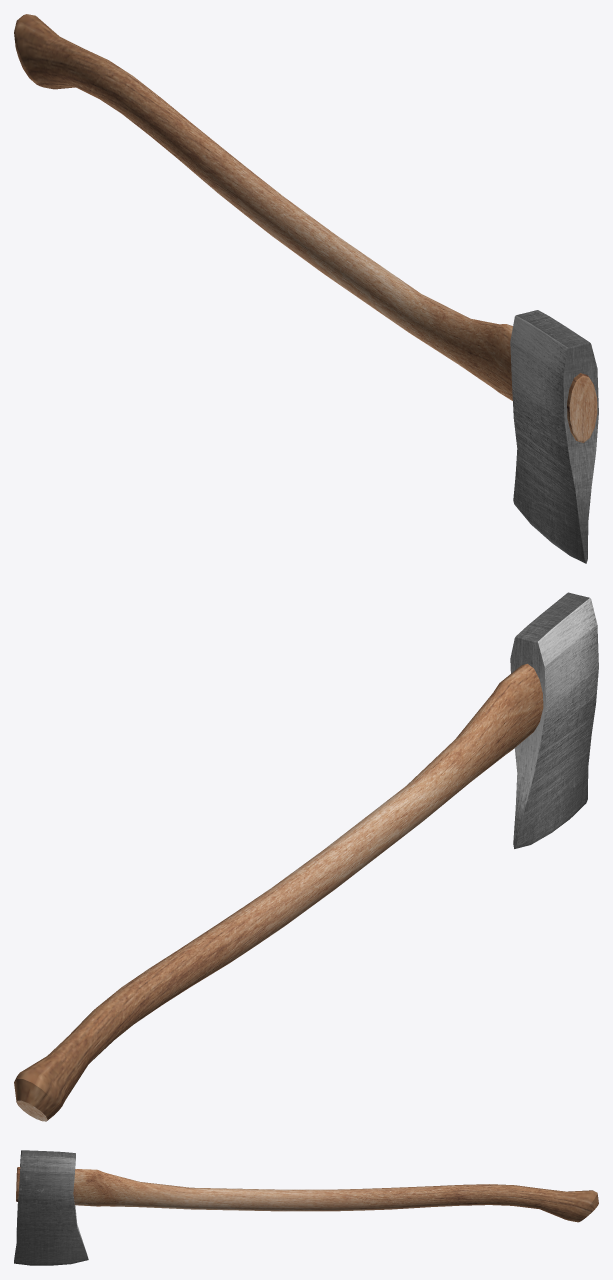
File: simpleAx.fbx
3 renders of one model, top to bottom at view 1: azimuth 30°, elevation 25°; view 2: azimuth 150°, elevation 25°; view 3: azimuth 270°, elevation 25°, orthographic. The views are drawn at different scales.
Parts seen in each view (by area): view 1: pCube2; view 2: pCube2; view 3: pCube2.
Part boxes in pixels (bbox=[...]): pCube2: bbox=[14, 14, 598, 563]; pCube2: bbox=[14, 592, 598, 1121]; pCube2: bbox=[14, 1150, 598, 1265].
Size of the model in its own units: 3.49 by 20.15 by 94.46.
